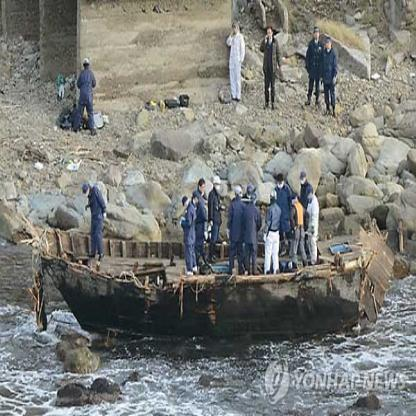fish-b: (21, 218, 396, 346)
